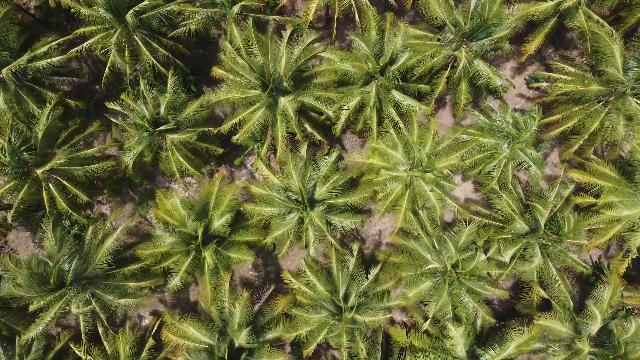trees: (2, 203, 166, 359), (451, 143, 629, 284), (204, 16, 345, 161), (517, 6, 639, 172), (307, 9, 438, 148), (277, 236, 416, 360), (242, 145, 380, 265), (391, 214, 511, 351), (3, 90, 125, 215), (134, 178, 258, 297), (400, 4, 521, 124), (159, 258, 298, 359), (59, 4, 212, 95), (106, 76, 225, 183), (446, 103, 549, 201), (2, 27, 97, 91), (294, 3, 373, 45)
